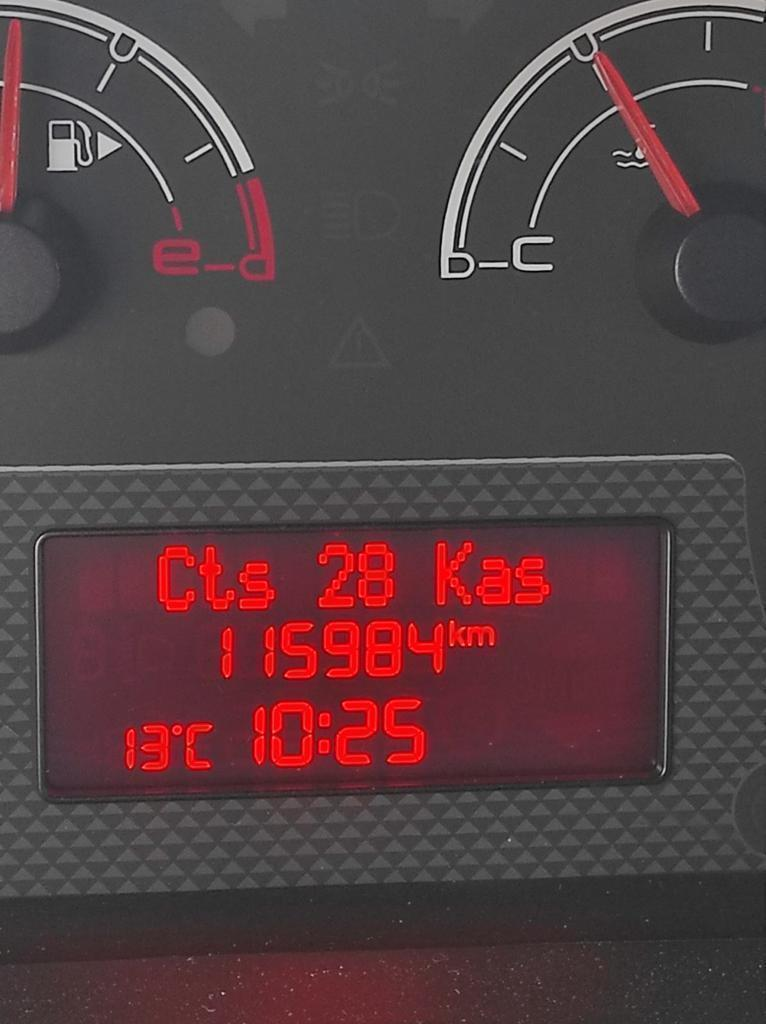0: (270, 700, 313, 768)
1: (216, 623, 240, 681), (250, 702, 266, 773), (260, 621, 278, 681), (123, 722, 136, 775)
2: (336, 696, 379, 768), (316, 539, 356, 610)
3: (138, 721, 170, 774)
4: (407, 621, 444, 674)
5: (380, 696, 428, 765), (281, 619, 319, 680)
8: (359, 540, 399, 608), (362, 619, 403, 676)
9: (322, 619, 358, 679)
X: (432, 536, 475, 608), (154, 543, 196, 612), (196, 544, 236, 612), (236, 559, 279, 612), (513, 553, 553, 607), (475, 555, 512, 607), (184, 720, 216, 776), (466, 623, 496, 651), (317, 707, 333, 759), (446, 618, 464, 650)
odometer: (29, 516, 680, 815)
